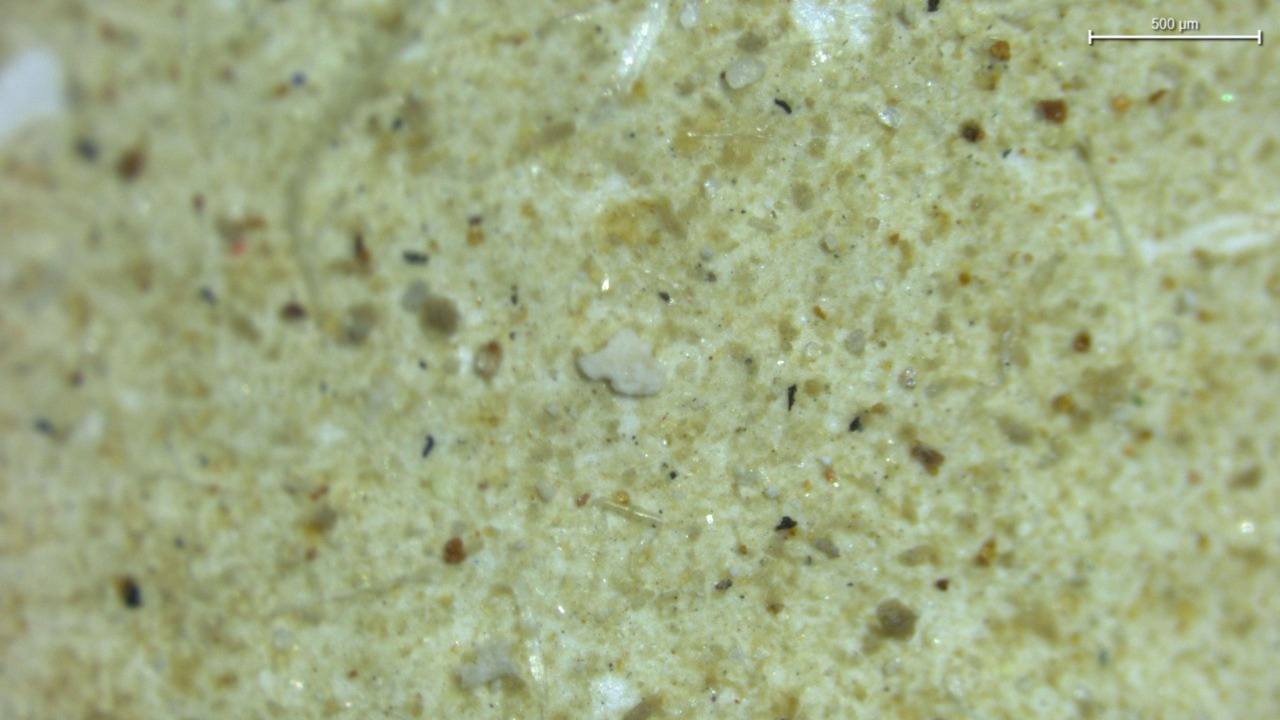microplastic_fragment: (577, 329, 664, 396), (724, 56, 765, 89)
